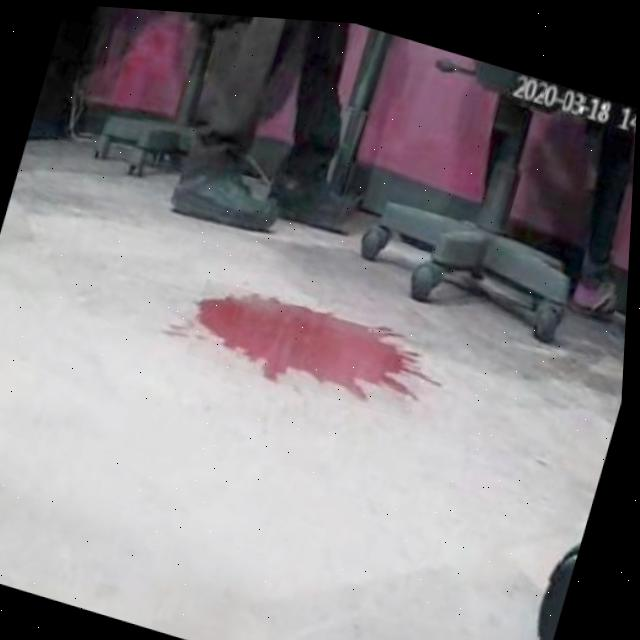spillage: (199, 293, 425, 397)
